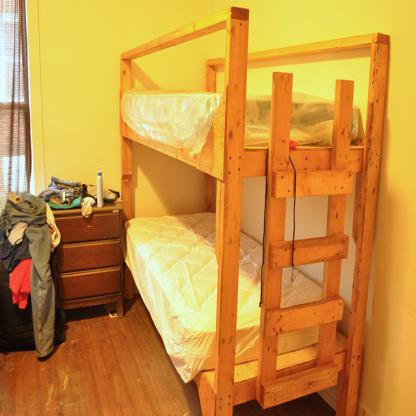suitcase: (1, 309, 66, 350)
